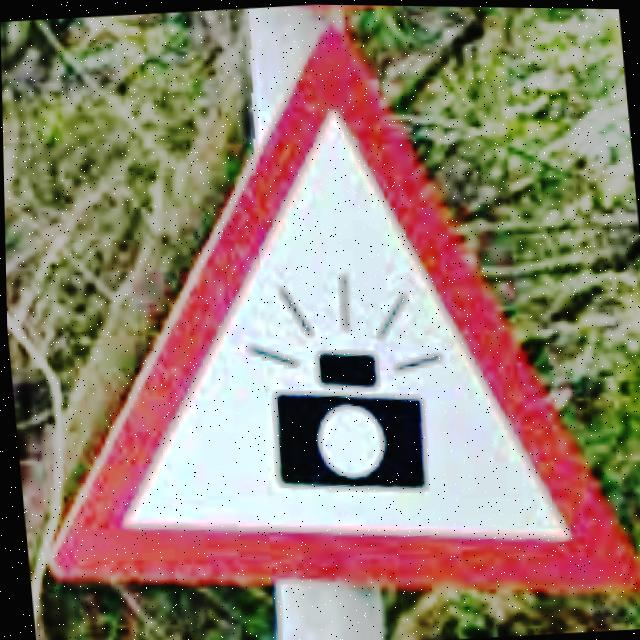speedcamera: (48, 25, 640, 589)
